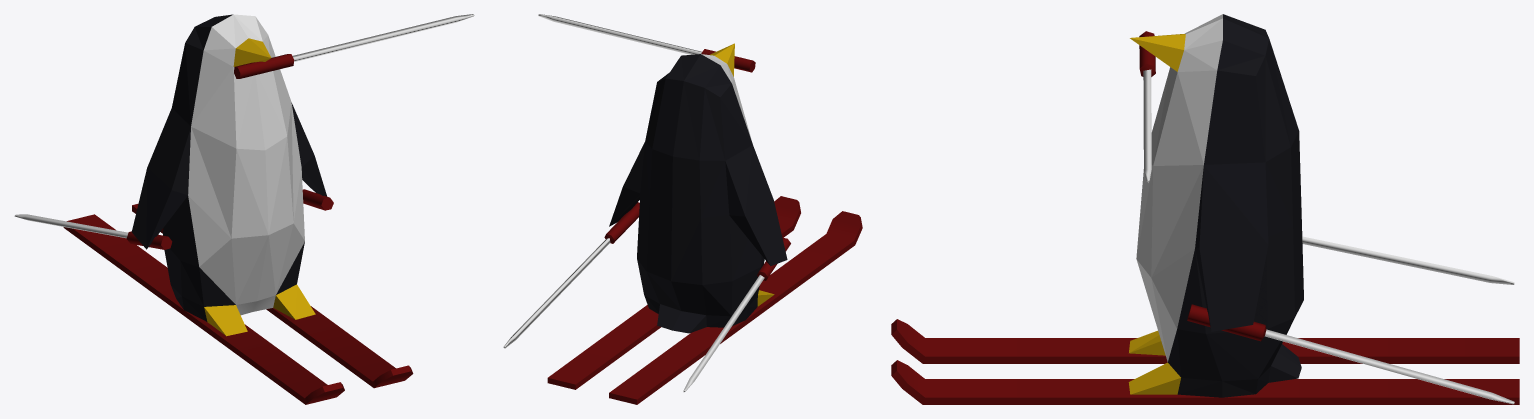
File: penguin_samdoryu.FBX
3 views of the same model, side by side, from view 1: azimuth 30°, elevation 25°; view 2: azimuth 150°, elevation 25°; view 3: azimuth 270°, elevation 25° (orthographic). The views are drawn at different scales.
Visible parts, largest first — view 1: penguin_samdoryu; view 2: penguin_samdoryu; view 3: penguin_samdoryu.
Boxes of the visible parts, x1,y1,x2,y2 form: penguin_samdoryu: (14,14,474,404); penguin_samdoryu: (503,14,862,404); penguin_samdoryu: (891,14,1519,404).
Size of the model in its own units: 28.29 by 25.08 by 40.02.
